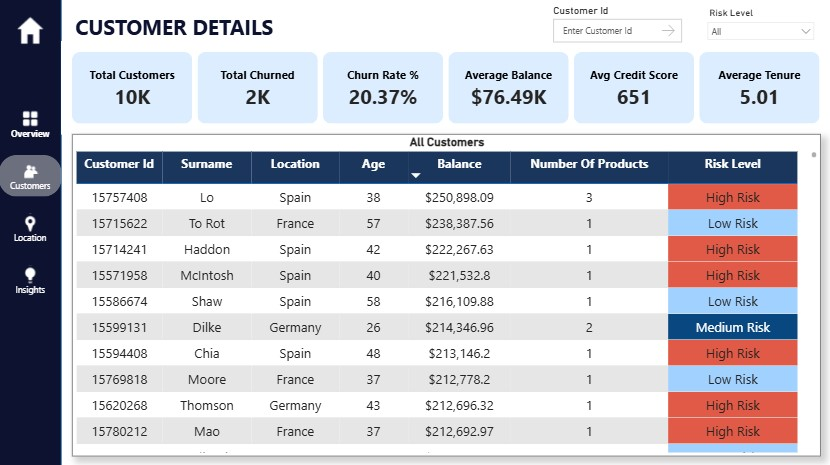

The dashboard page shown, as its layout file describes it:
{"tool":"powerbi","page":{"name":"Customers","canvas":[1280,720],"ordinal":1},"visuals":[{"type":"textbox","box":[112,16,512,64],"z":0},{"type":"shape","box":[0,0,96,720],"z":1000},{"type":"actionButton","box":[0,16,96,64],"z":2000},{"type":"actionButton","box":[0,160,96,64],"z":3000},{"type":"actionButton","box":[0,240,96,64],"z":4000},{"type":"actionButton","box":[0,320,96,64],"z":5000},{"type":"actionButton","box":[0,400,96,64],"z":6000},{"type":"cardVisual","fields":{"Data":["customer_churn.Total Customers","customer_churn.Total Churned","customer_churn.Churn Rate %","customer_churn.Avg_Balance","Avg(customer_churn.CreditScore)","Avg(customer_churn.Tenure)"]},"box":[96,64,1184,144],"z":7000},{"type":"tableEx","title":"All Customers","fields":{"Values":["customer_churn.CustomerId","customer_churn.Surname","customer_churn.Geography","customer_churn.Age","customer_churn.Balance","Sum(customer_churn.NumOfProducts)","customer_churn.Risk Level"]},"box":[112,208,1152,496],"z":8000},{"type":"textSlicer","fields":{"Values":["customer_churn.CustomerId"]},"box":[848,8,208,64],"z":9000},{"type":"slicer","fields":{"Values":["customer_churn.Risk Level"]},"box":[1080,8,184,64],"z":10000}]}

Visuals, with their boxes on the page's 1280x720 design canvas (x1, y1, x2, y2). These are canvas units, not pixel positions in the 830x465 screenshot, which may show the page scaled, cropped or inside an application window:
textbox: 112:16:624:80
shape: 0:0:96:720
actionButton: 0:16:96:80
actionButton: 0:160:96:224
actionButton: 0:240:96:304
actionButton: 0:320:96:384
actionButton: 0:400:96:464
cardVisual - customer_churn.Total Customers x customer_churn.Total Churned: 96:64:1280:208
"All Customers" tableEx: 112:208:1264:704
textSlicer - customer_churn.CustomerId: 848:8:1056:72
slicer - customer_churn.Risk Level: 1080:8:1264:72
